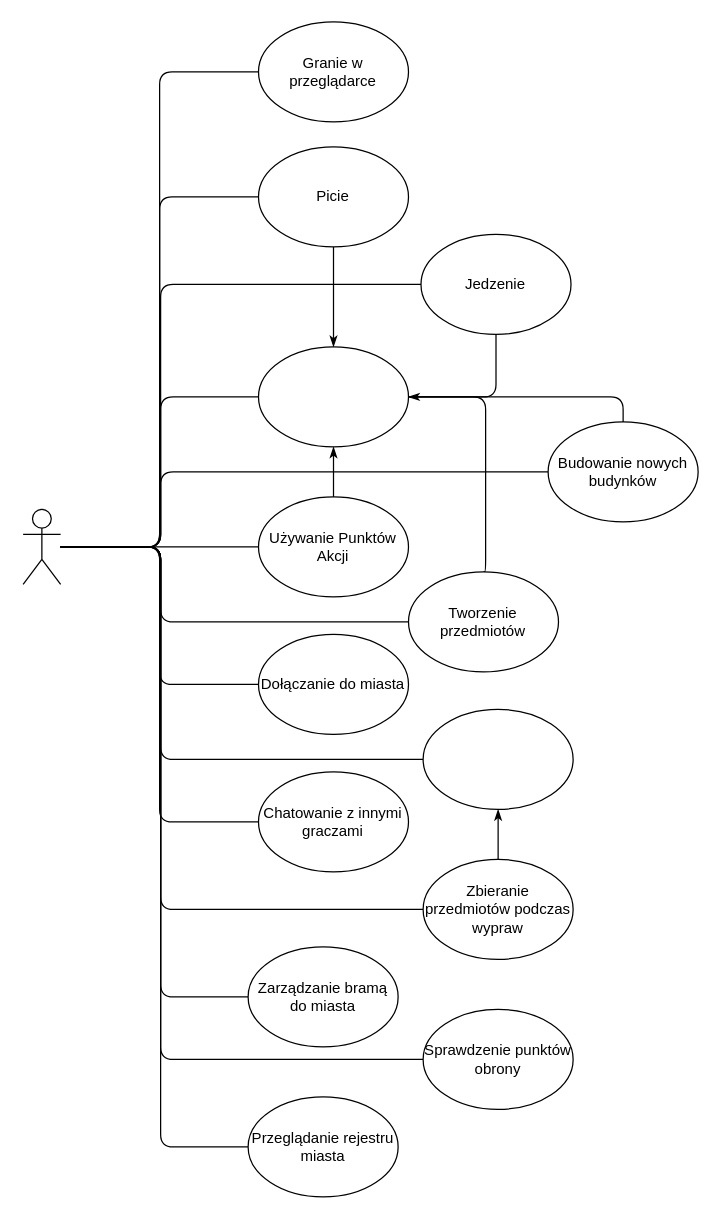
Some shapes in this 720 by 1219 pixel diagram are drawn without their labels. Here are the shapes that lost their labels. From the top down, the box of each, then its label:
(257, 346, 408, 447): Zarządzanie Punktami Akcji
(22, 508, 61, 584): Gracz
(422, 708, 573, 809): Chodzenie na wyprawy
